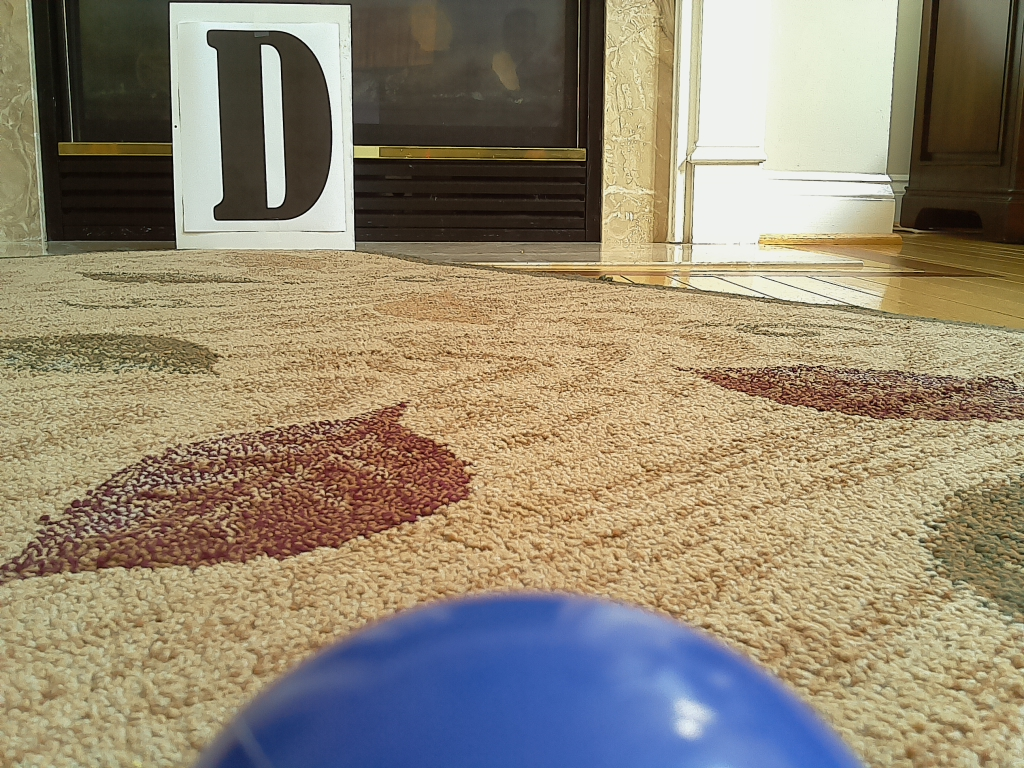letter: (214, 29, 334, 221)
